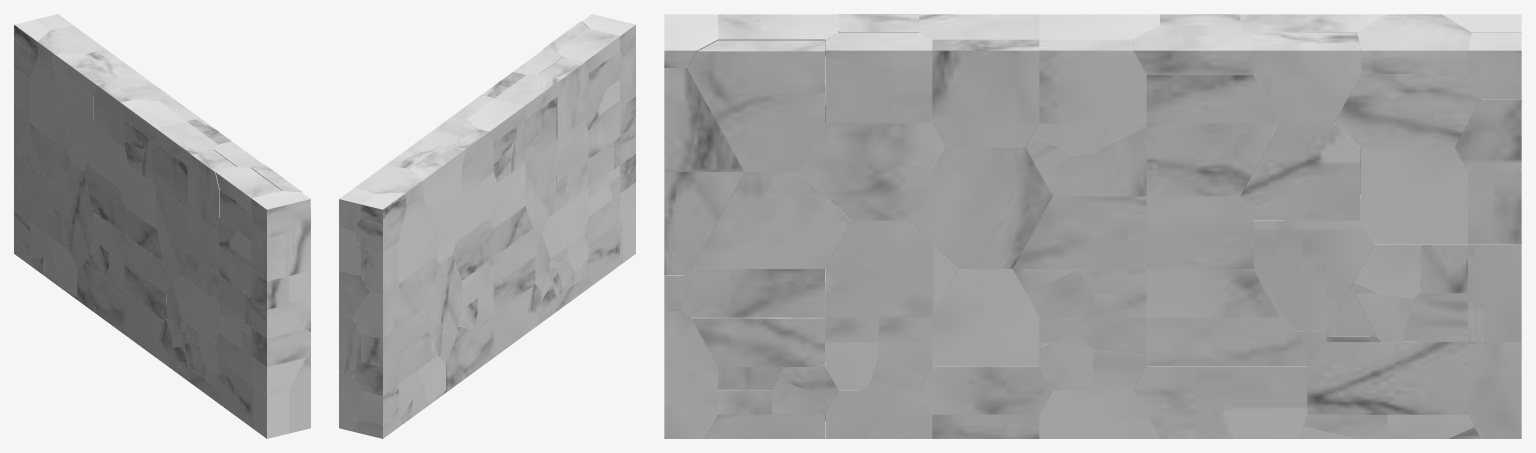
File: MarbleWall.fbx
The picture shows the model from 3 angles, left to right: view 1: azimuth 30°, elevation 25°; view 2: azimuth 150°, elevation 25°; view 3: azimuth 270°, elevation 25°; orthographic projection. The views are drawn at different scales.
Visible parts, largest first — view 1: Cube_cell.013, Cube_cell.060, Cube_cell.005, Cube_cell.078, Cube_cell.039, Cube_cell.030, Cube_cell.035, Cube_cell.042, Cube_cell.008, Cube_cell.073, Cube_cell.015, Cube_cell.028 (+60 smaller); view 2: Cube_cell.013, Cube_cell.060, Cube_cell.005, Cube_cell.078, Cube_cell.030, Cube_cell.035, Cube_cell.042, Cube_cell.043, Cube_cell.073, Cube_cell.028, Cube_cell.020, Cube_cell.081 (+62 smaller); view 3: Cube_cell.055, Cube_cell.014, Cube_cell.032, Cube_cell.079, Cube_cell.007, Cube_cell.011, Cube_cell.049, Cube_cell.077, Cube_cell.069, Cube_cell.045, Cube_cell.016, Cube_cell.084 (+63 smaller).
Part boxes in pixels (left/top/right/bottom): Cube_cell.013: left=61, top=162, right=93, bottom=270; Cube_cell.060: left=187, top=149, right=236, bottom=229; Cube_cell.005: left=30, top=57, right=70, bottom=149; Cube_cell.078: left=156, top=186, right=187, bottom=282; Cube_cell.039: left=251, top=191, right=310, bottom=238; Cube_cell.030: left=77, top=263, right=124, bottom=334; Cube_cell.035: left=173, top=275, right=219, bottom=343; Cube_cell.042: left=53, top=68, right=93, bottom=151; Cube_cell.008: left=251, top=327, right=310, bottom=367; Cube_cell.073: left=84, top=125, right=128, bottom=188; Cube_cell.015: left=251, top=385, right=288, bottom=438; Cube_cell.028: left=93, top=82, right=133, bottom=147; Cube_cell.013: left=430, top=255, right=461, bottom=363; Cube_cell.060: left=539, top=57, right=588, bottom=139; Cube_cell.005: left=398, top=195, right=439, bottom=283; Cube_cell.078: left=525, top=140, right=556, bottom=235; Cube_cell.030: left=446, top=315, right=493, bottom=392; Cube_cell.035: left=542, top=188, right=588, bottom=258; Cube_cell.042: left=422, top=166, right=461, bottom=243; Cube_cell.043: left=352, top=284, right=398, bottom=338; Cube_cell.073: left=453, top=172, right=497, bottom=241; Cube_cell.028: left=453, top=128, right=493, bottom=194; Cube_cell.020: left=398, top=256, right=439, bottom=326; Cube_cell.081: left=453, top=218, right=493, bottom=280; Cube_cell.055: left=687, top=40, right=824, bottom=172; Cube_cell.014: left=905, top=147, right=1052, bottom=268; Cube_cell.032: left=1133, top=366, right=1307, bottom=438; Cube_cell.079: left=1307, top=342, right=1467, bottom=414; Cube_cell.007: left=932, top=39, right=1039, bottom=147; Cube_cell.011: left=691, top=172, right=851, bottom=268; Cube_cell.049: left=799, top=105, right=945, bottom=220; Cube_cell.077: left=825, top=220, right=958, bottom=317; Cube_cell.069: left=1361, top=147, right=1467, bottom=244; Cube_cell.045: left=1253, top=203, right=1373, bottom=330; Cube_cell.016: left=1240, top=123, right=1360, bottom=220; Cube_cell.084: left=825, top=32, right=932, bottom=123.
Size of the model in its own units: 103 by 500 by 1000.
